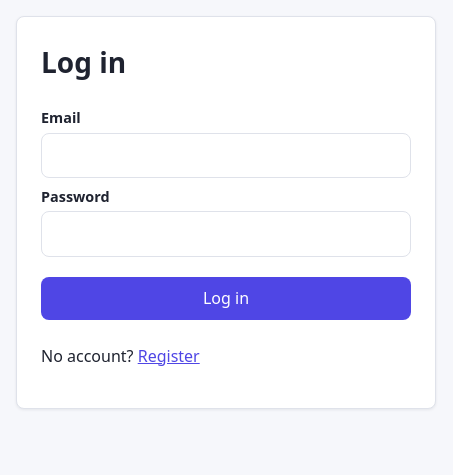
Login page › shows validation errors when an empty form is submitted
Click the button "Log in" at (226,298), box [41,277,411,320]
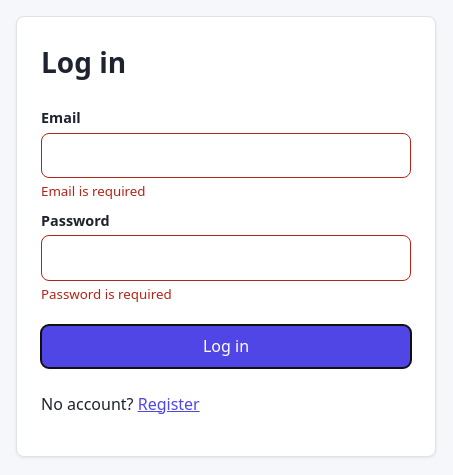
expect the text "Email is required" is shown: met, box [41,182,146,200]
expect the text "Password is required" is shown: met, box [41,285,172,303]
